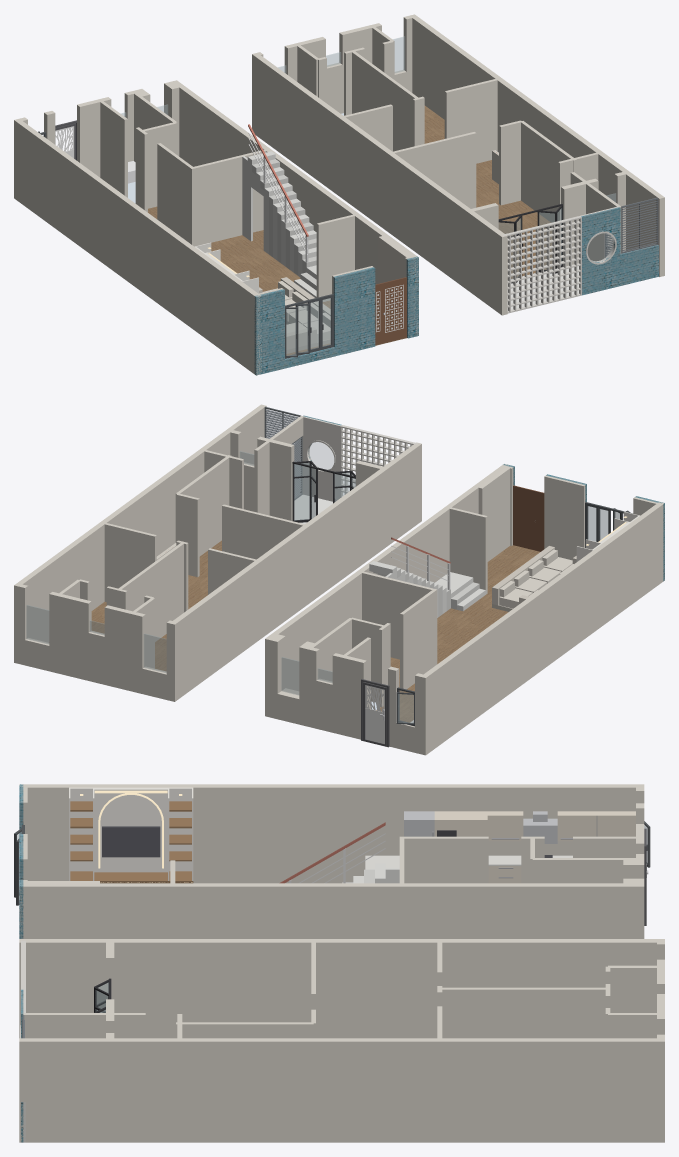
File: house_web.glb
3 renders of one model, top to bottom at view 1: azimuth 30°, elevation 25°; view 2: azimuth 150°, elevation 25°; view 3: azimuth 270°, elevation 25°, orthographic. The views are drawn at different scales.
Visible parts, largest first — view 1: PartyL.001, PartyL, PartyR.001, PartyR, Dining_Kitchen_202, MB_Back, Front.003, Leisure_Back.002, B1_B2, MB_Strip.001, Kitchen_Bedroom, Stair_End_Wall (+33 smaller); view 2: PartyL.001, PartyL, PartyR.001, PartyR, Back.006, Back.005, B1_B2, Front.003_inner, Dining_Kitchen_202, Kitchen_Bedroom, MB_Back, Leisure_Back.002 (+41 smaller); view 3: PartyR.001, PartyL.001, PartyR, PartyL, B1_B2, TV_Center_panel, Kitchen_Bedroom, Bedroom_NotchSide, MB_Strip.001, Toilet_Side, Kit_wall_B, TV_Screen (+14 smaller).
Part boxes in pixels (bbox=[...]): PartyL.001: bbox=[252, 53, 507, 315]; PartyL: bbox=[14, 119, 261, 374]; PartyR.001: bbox=[412, 16, 664, 276]; PartyR: bbox=[176, 80, 418, 335]; Dining_Kitchen_202: bbox=[190, 149, 266, 246]; MB_Back: bbox=[390, 132, 476, 208]; Front.003: bbox=[333, 267, 375, 356]; Leisure_Back.002: bbox=[444, 78, 499, 163]; B1_B2: bbox=[351, 51, 418, 151]; MB_Strip.001: bbox=[521, 121, 576, 222]; Kitchen_Bedroom: bbox=[157, 143, 192, 242]; Stair_End_Wall: bbox=[316, 214, 354, 301]; PartyL.001: bbox=[169, 442, 421, 700]; PartyL: bbox=[420, 502, 664, 753]; PartyR.001: bbox=[14, 404, 266, 663]; PartyR: bbox=[265, 464, 508, 716]; Back.006: bbox=[49, 592, 91, 680]; Back.005: bbox=[104, 605, 145, 693]; B1_B2: bbox=[118, 542, 184, 641]; Front.003_inner: bbox=[544, 475, 585, 560]; Dining_Kitchen_202: bbox=[360, 571, 437, 664]; Kitchen_Bedroom: bbox=[400, 590, 436, 691]; MB_Back: bbox=[222, 504, 306, 559]; Leisure_Back.002: bbox=[102, 522, 156, 601]; PartyR.001: bbox=[19, 1038, 664, 1142]; PartyL.001: bbox=[19, 939, 657, 1038]; PartyR: bbox=[19, 883, 644, 938]; PartyL: bbox=[19, 784, 641, 883]; B1_B2: bbox=[440, 987, 607, 1038]; TV_Center_panel: bbox=[94, 787, 167, 872]; Kitchen_Bedroom: bbox=[402, 836, 488, 883]; Bedroom_NotchSide: bbox=[532, 858, 635, 883]; MB_Strip.001: bbox=[176, 1022, 313, 1038]; Toilet_Side: bbox=[608, 965, 660, 1012]; Kit_wall_B: bbox=[557, 811, 635, 841]; TV_Screen: bbox=[102, 826, 160, 857].
Size of the model in its own units: 14.96 by 4.03 by 15.99.
45 materials, 8 textured.
